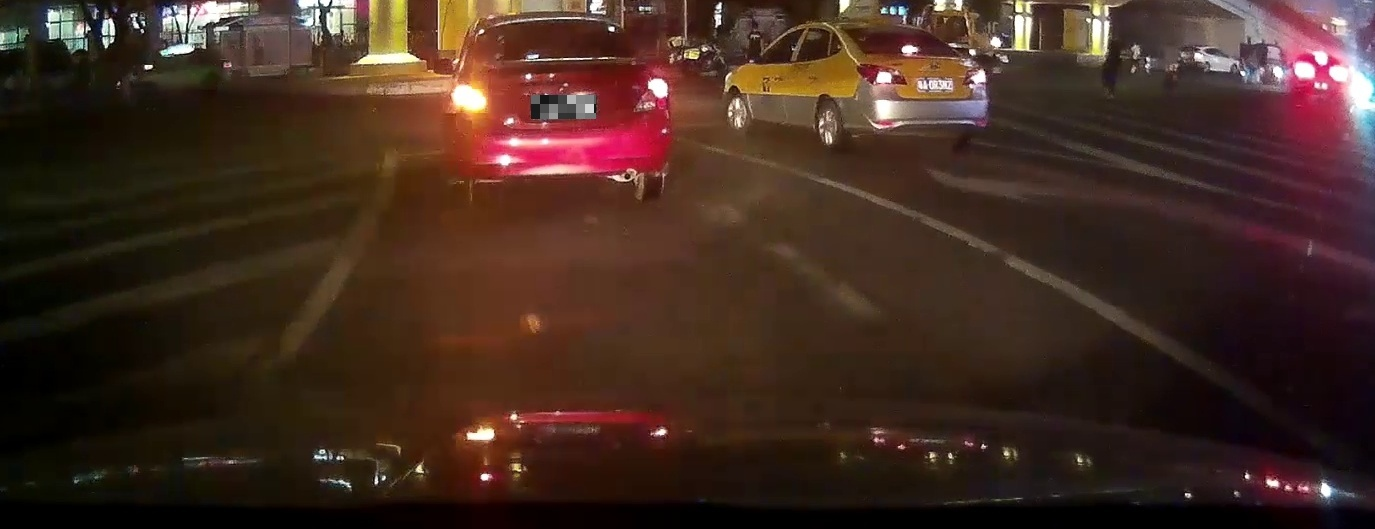L_light: (855, 63, 907, 85), (451, 84, 487, 111)
R_light: (633, 78, 669, 113), (962, 67, 986, 85)
T_light: (544, 20, 569, 26), (901, 46, 918, 53)
night-brake: (835, 22, 990, 148)
night-left: (451, 11, 673, 208)
plate_1: (531, 95, 596, 119)
